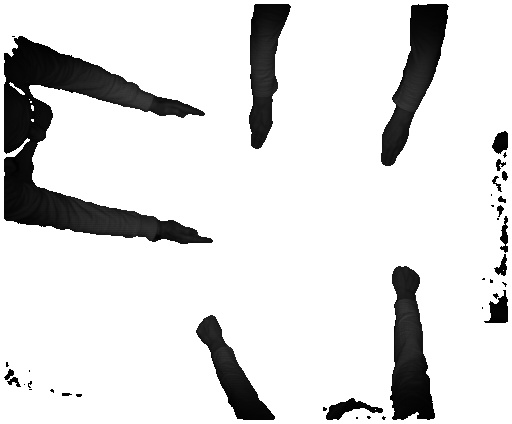fist: (192, 312, 237, 347), (392, 264, 423, 295)
hand: (376, 121, 415, 167), (248, 103, 279, 151)
spine: (155, 88, 207, 119), (166, 216, 215, 247)
